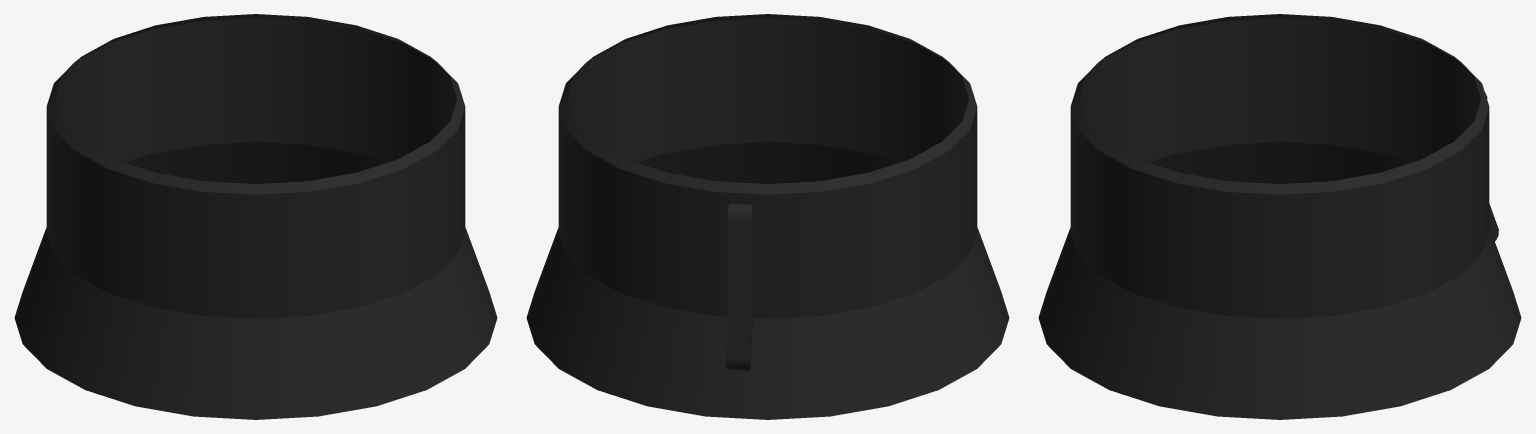
Rendered from tantares_engine_s1_1.obj.
3 renders of one model, left to right at view 1: azimuth 30°, elevation 25°; view 2: azimuth 150°, elevation 25°; view 3: azimuth 270°, elevation 25°, orthographic.
Visible parts, largest first — view 1: mesh2; view 2: mesh2; view 3: mesh2.
Part boxes in pixels (bbox=[...]): mesh2: bbox=[14, 14, 497, 419]; mesh2: bbox=[526, 14, 1009, 419]; mesh2: bbox=[1038, 14, 1521, 419].
Size of the model in its own units: 1.5 by 0.7875 by 1.5.
